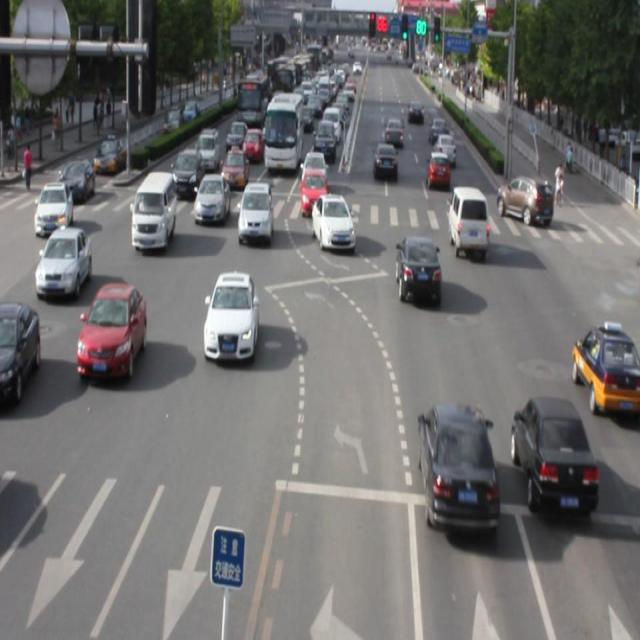car: (416, 401, 496, 533), (510, 394, 596, 516), (78, 282, 146, 378), (570, 325, 640, 412), (202, 272, 258, 361), (395, 236, 442, 304), (311, 191, 353, 251), (237, 182, 274, 241), (194, 172, 228, 224)
truck: (131, 172, 176, 250), (446, 185, 488, 252)
